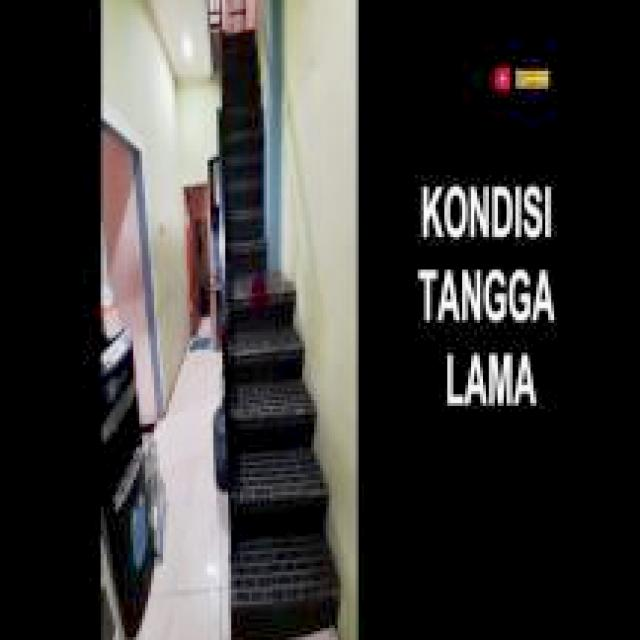upstair: (232, 336, 345, 640)
